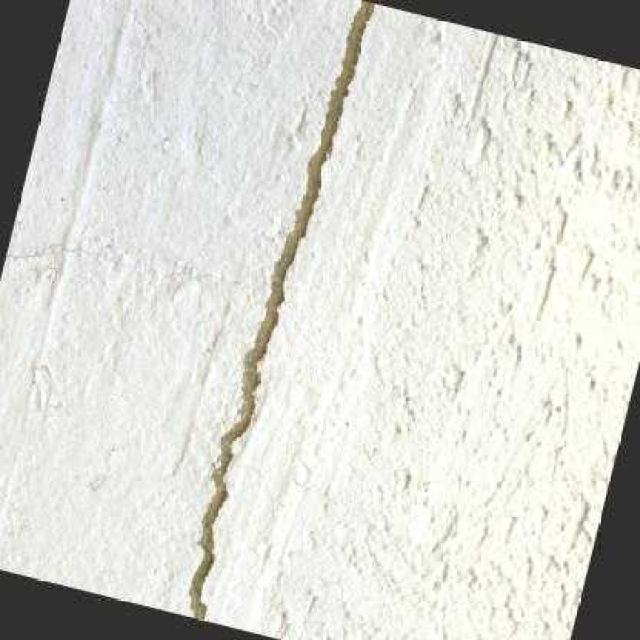D00: (188, 0, 375, 621)
